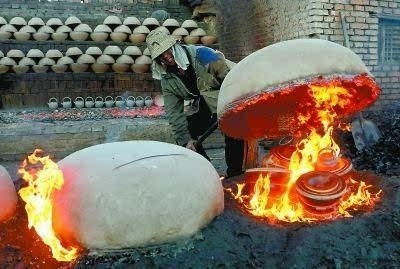fire: (234, 98, 379, 222), (14, 145, 82, 261)
